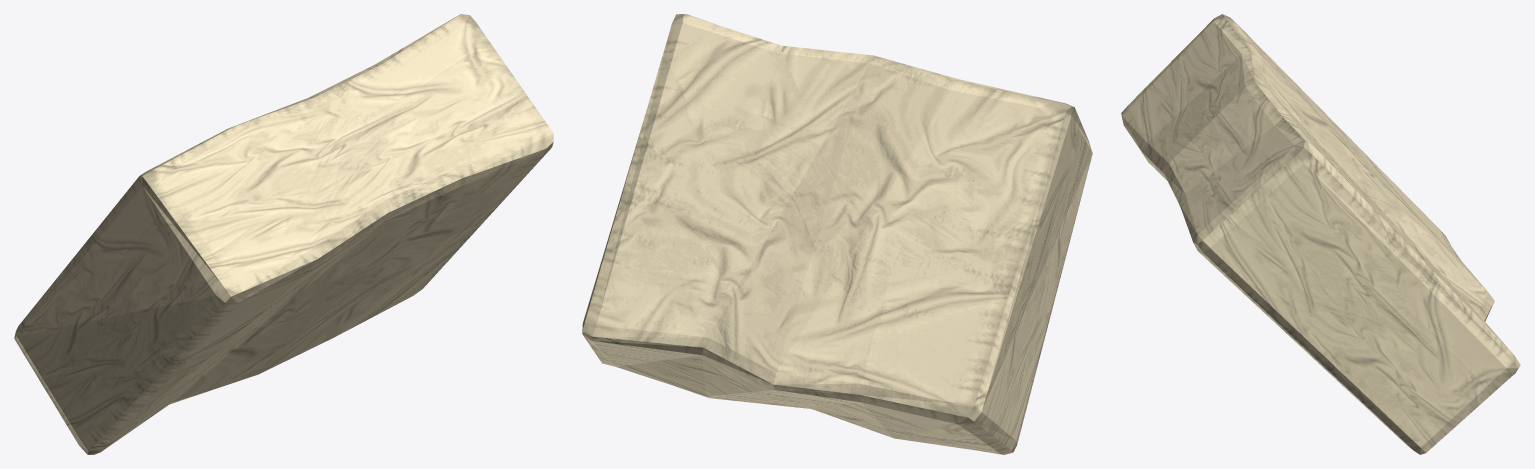
File: ISS_INT_props_Square_Bag_4.FBX
3 views of the same model, side by side, from view 1: azimuth 30°, elevation 25°; view 2: azimuth 150°, elevation 25°; view 3: azimuth 270°, elevation 25° (orthographic). The views are drawn at different scales.
Parts seen in each view (by area): view 1: Object009; view 2: Object009; view 3: Object009.
Part boxes in pixels (box(x1,y1,x2,y2)): Object009: box(14, 14, 553, 454); Object009: box(582, 14, 1092, 454); Object009: box(1121, 14, 1520, 454).
Bounding box in the file's own units: 0.0455 × 0.038 × 0.0402.
